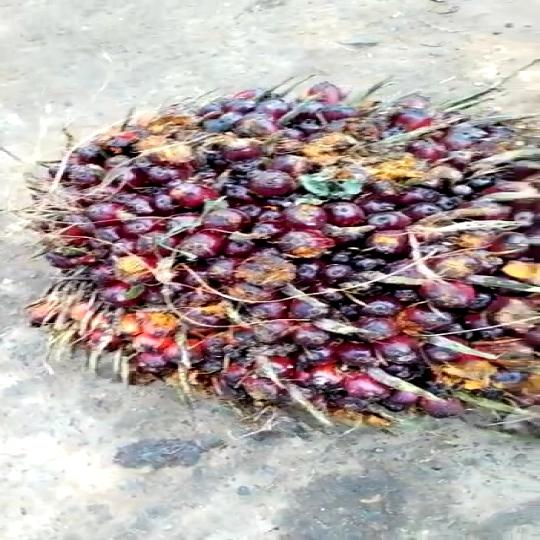kurang masak: (30, 63, 540, 437)
